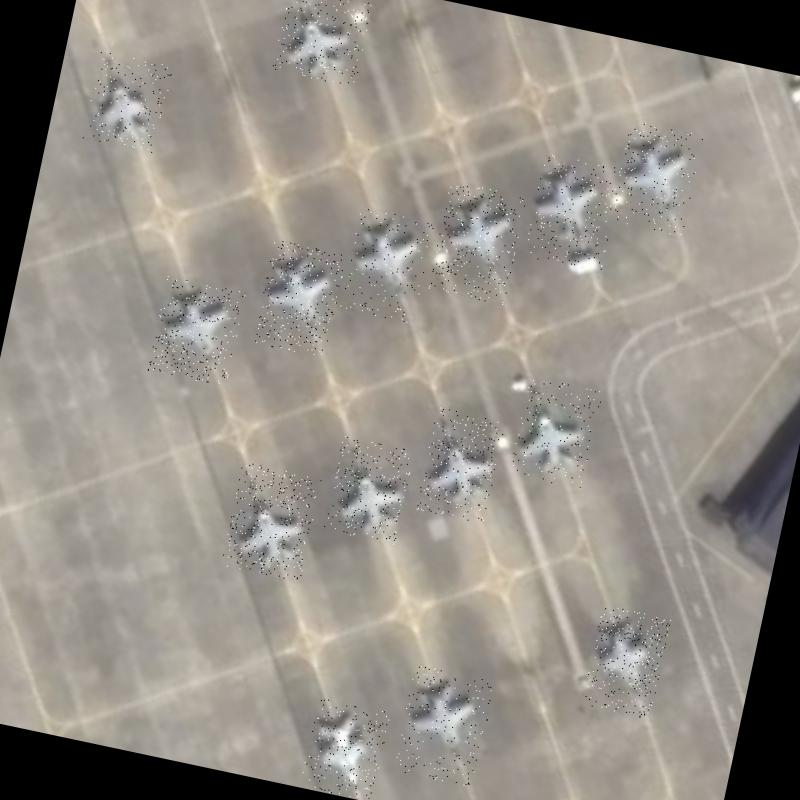A16: (392, 664, 496, 788), (428, 181, 527, 306), (221, 462, 322, 582), (524, 153, 622, 273), (253, 240, 347, 358), (610, 120, 704, 237), (340, 207, 434, 324), (148, 276, 246, 388), (509, 376, 603, 490), (416, 407, 506, 524), (582, 605, 672, 720), (324, 436, 414, 545), (82, 50, 174, 154), (299, 697, 390, 800), (271, 0, 373, 88)
